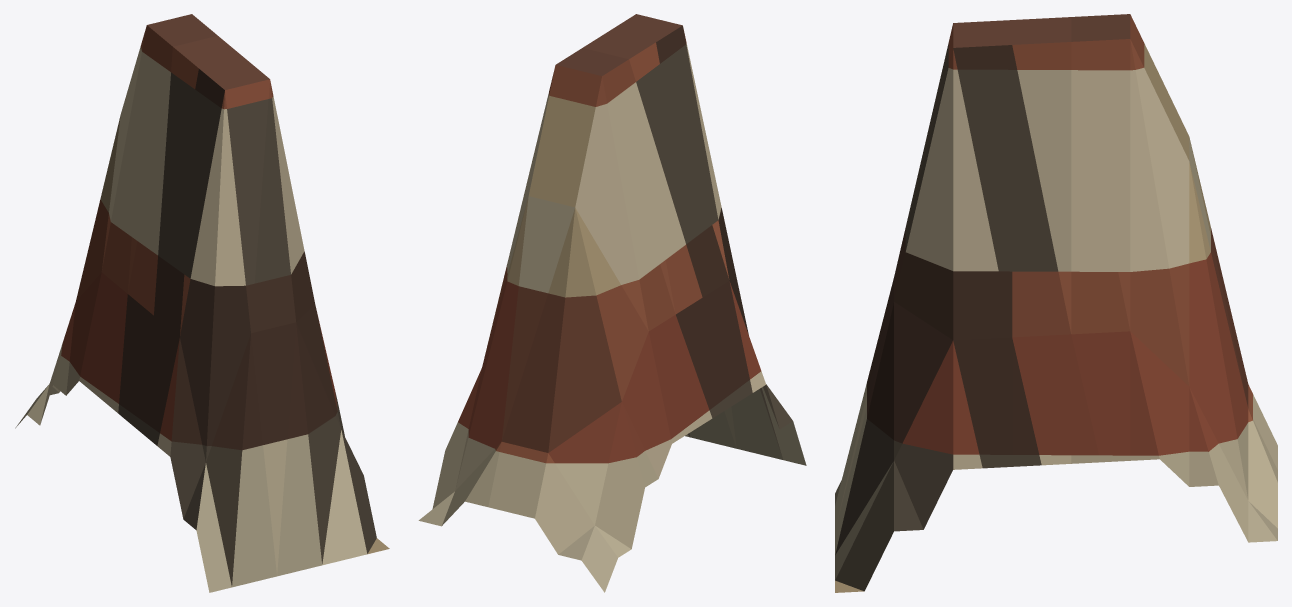
File: dam_domes_fin_east.glb
The picture shows the model from 3 angles, left to right: view 1: azimuth 30°, elevation 25°; view 2: azimuth 150°, elevation 25°; view 3: azimuth 270°, elevation 25°; orthographic projection. The views are drawn at different scales.
Visible parts, largest first — view 1: dam_domes_fin_east; view 2: dam_domes_fin_east; view 3: dam_domes_fin_east.
Boxes of the visible parts, x1,y1,x2,y2 form: dam_domes_fin_east: (15, 14, 389, 592); dam_domes_fin_east: (418, 14, 806, 592); dam_domes_fin_east: (835, 14, 1277, 592).
Size of the model in its own units: 8 by 19.32 by 15.
